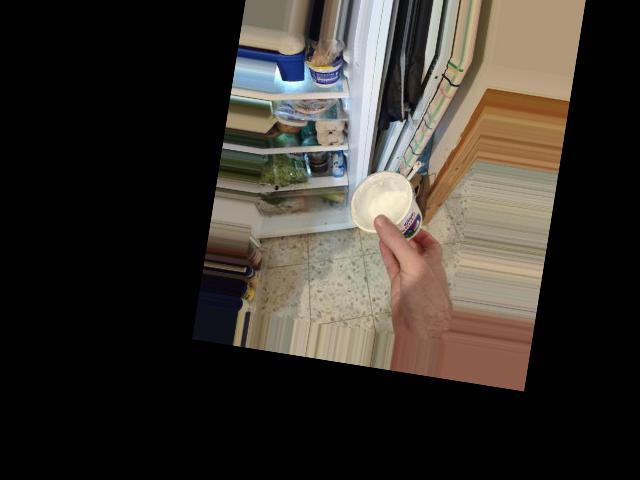cotage: (344, 159, 434, 250)
